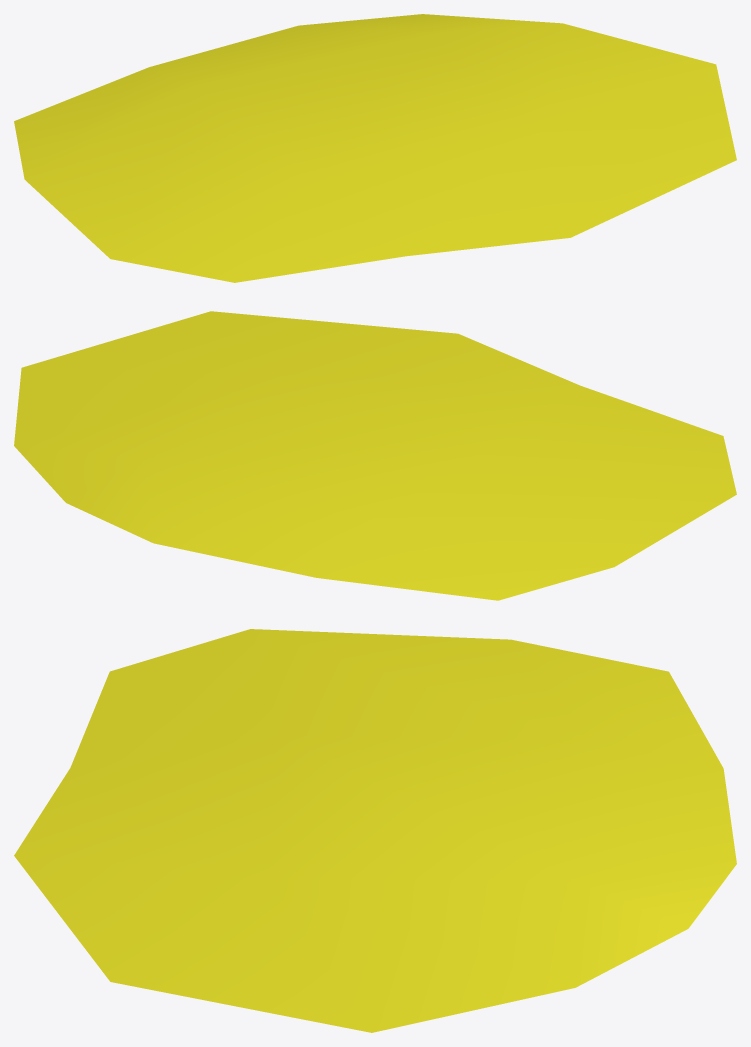
The model's file is yello.FBX.
The picture shows the model from 3 angles, top to bottom: view 1: azimuth 30°, elevation 25°; view 2: azimuth 150°, elevation 25°; view 3: azimuth 270°, elevation 25°; orthographic projection. The views are drawn at different scales.
Parts seen in each view (by area): view 1: Plane003; view 2: Plane003; view 3: Plane003.
Boxes of the visible parts, x1,y1,x2,y2 form: Plane003: [14, 14, 736, 282]; Plane003: [14, 311, 736, 600]; Plane003: [14, 629, 736, 1032].
Size of the model in its own units: 8.97 by 0.2662 by 6.78.
